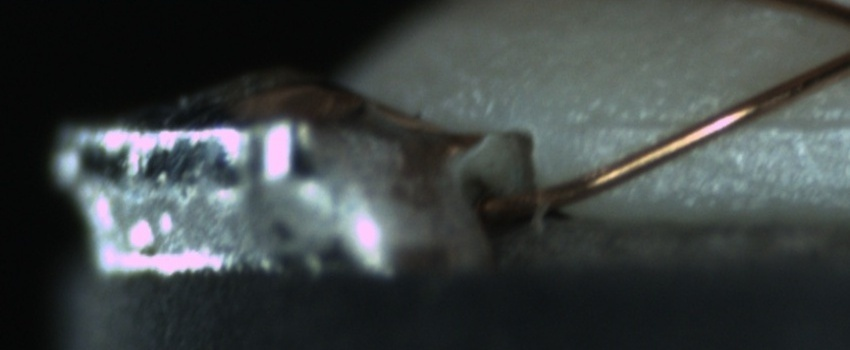DL: (573, 90, 844, 153)
